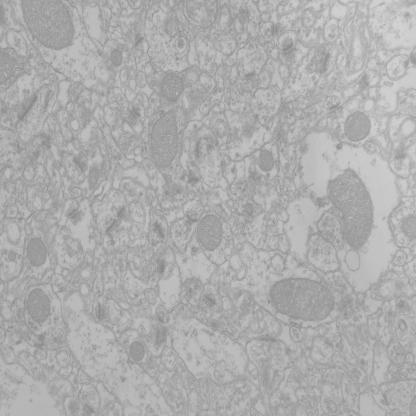mitochondria: (326, 170, 375, 250), (270, 277, 336, 323), (21, 0, 76, 52), (150, 110, 179, 168), (196, 215, 224, 252), (26, 288, 51, 324), (344, 110, 371, 142), (160, 72, 185, 102), (25, 236, 48, 267), (402, 214, 416, 241), (258, 150, 275, 172), (129, 341, 145, 363), (87, 166, 101, 190), (110, 49, 123, 67), (243, 202, 254, 215), (8, 250, 16, 263)
